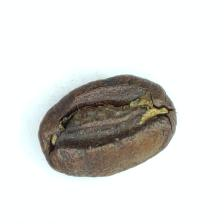NG: (54, 100, 168, 151)
